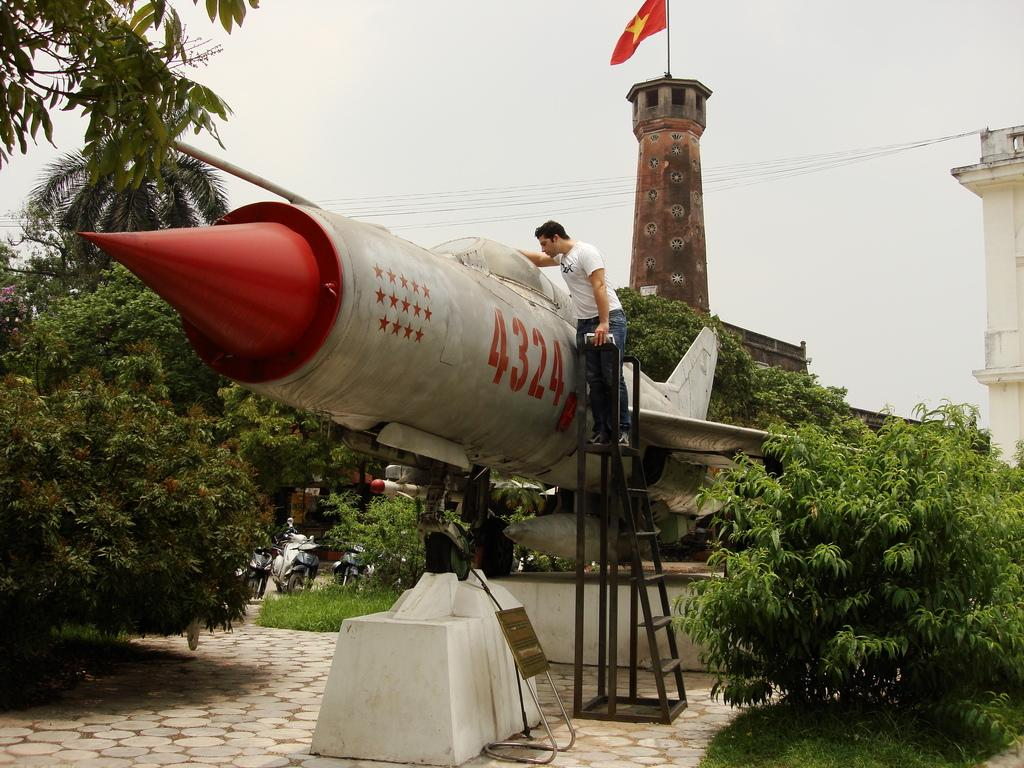Missile: (65, 114, 871, 557)
